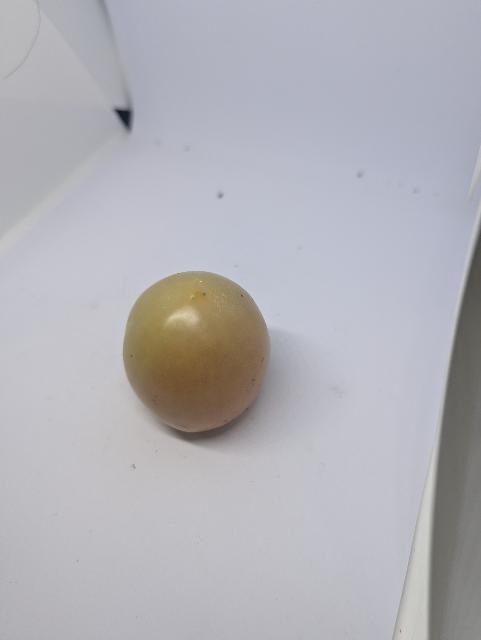turning: (115, 257, 271, 437)
